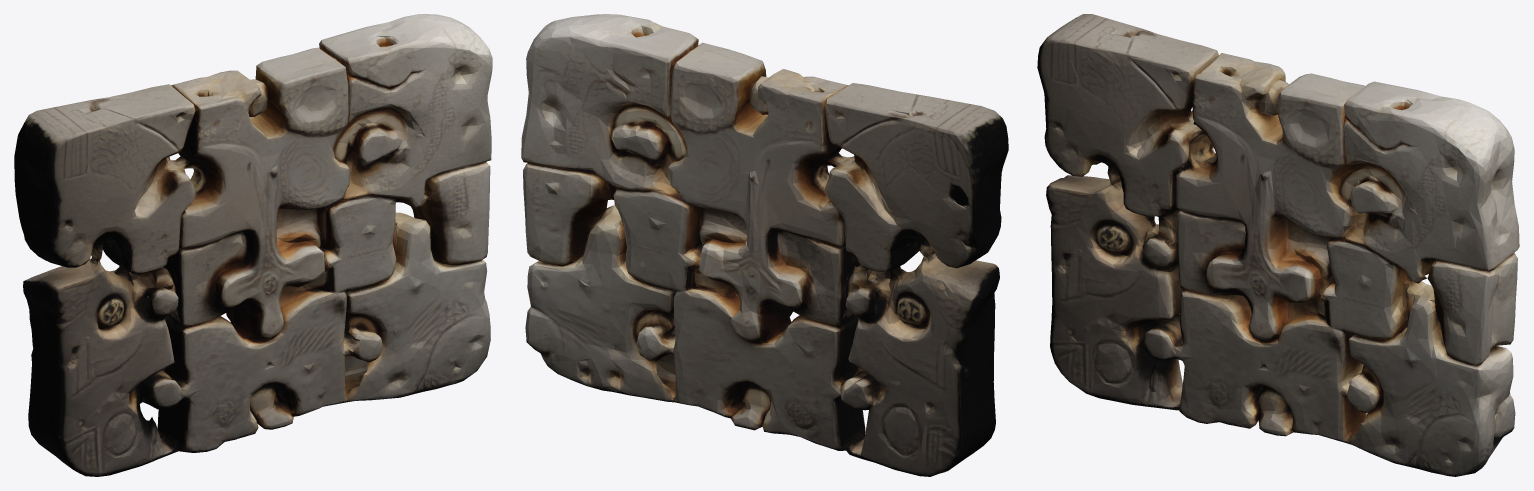
The model's file is stone-carved-puzzle-rustic.jpeg.glb.
The picture shows the model from 3 angles, left to right: view 1: azimuth 30°, elevation 25°; view 2: azimuth 150°, elevation 25°; view 3: azimuth 330°, elevation 25°; orthographic projection.
Parts seen in each view (by area): view 1: world; view 2: world; view 3: world.
Boxes of the visible parts, x1,y1,x2,y2 form: world: [14, 14, 492, 476]; world: [521, 14, 1008, 476]; world: [1037, 14, 1519, 476].
Size of the model in its own units: 0.9953 by 0.7559 by 0.1493.
Materials: 1 (1 with a texture image).
